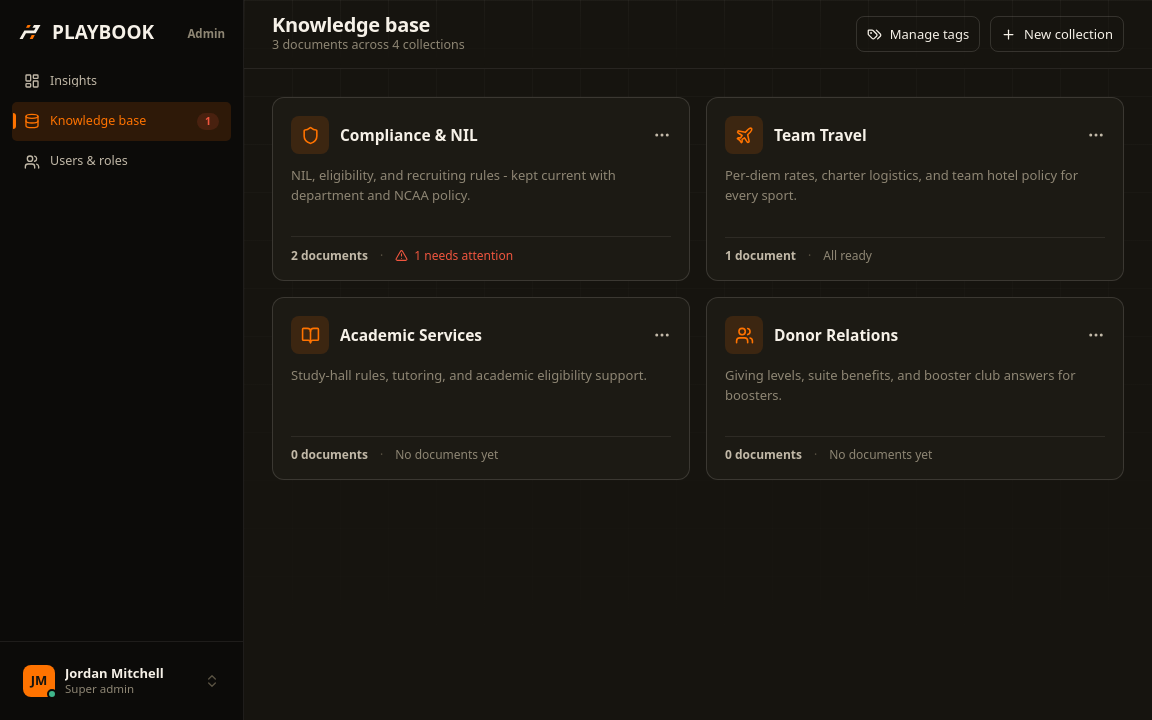
AdminShell › opens collection detail and routes document actions through KB mutations
The width and height of the screenshot is (1152, 720).
Click the button with aria-label "Compliance & NIL collection": (310, 135) [291,116,671,262]
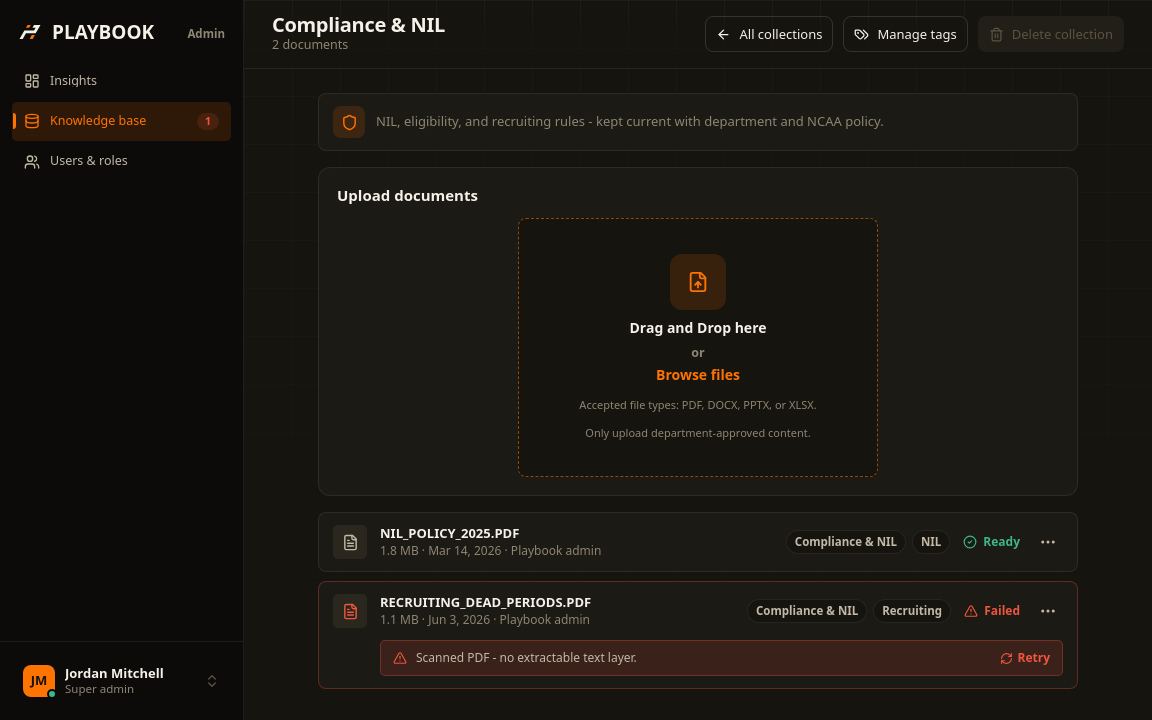
Now the heading "Compliance & NIL" is shown, box [272,15,445,35]
Now the text "2 documents" is shown, box [272,36,348,53]
Now the text "NIL_POLICY_2025.PDF" is shown, box [380,526,519,542]
Click the button with aria-label "Retry RECRUITING_DEAD_PERIODS.PDF": (1025, 658) [1000,652,1050,665]
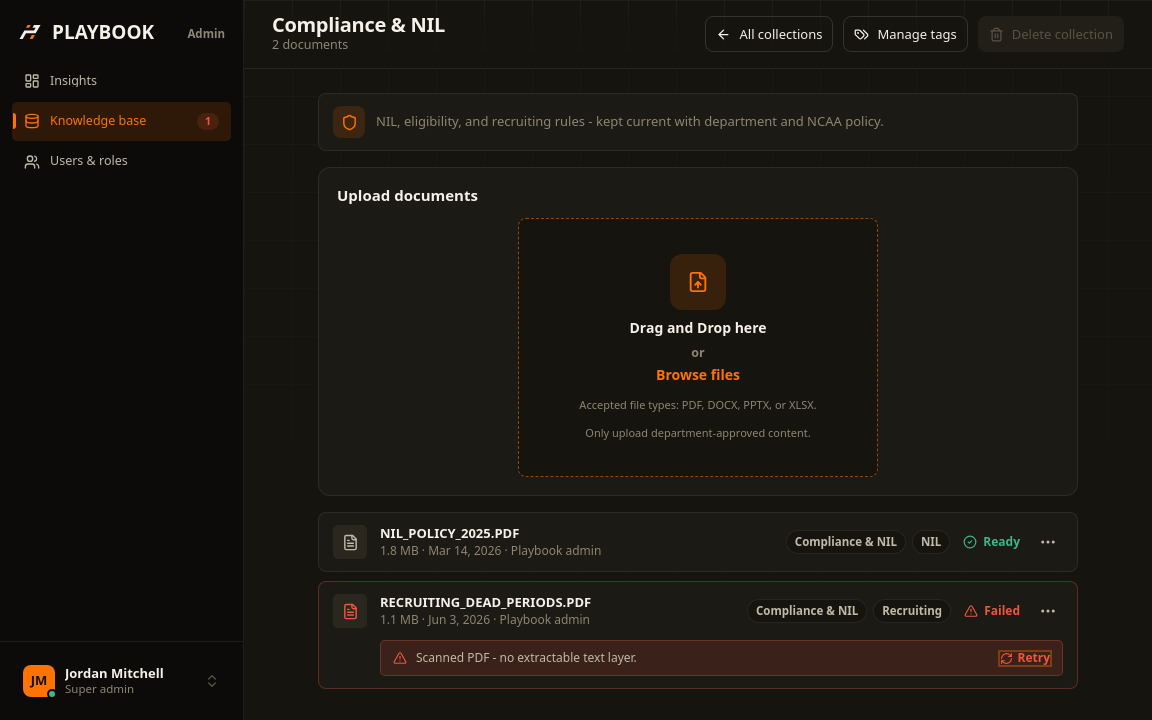
Click the button named "Actions for RECRUITING_DEAD_PERIODS.PDF": (1048, 611) [1033,596,1063,626]
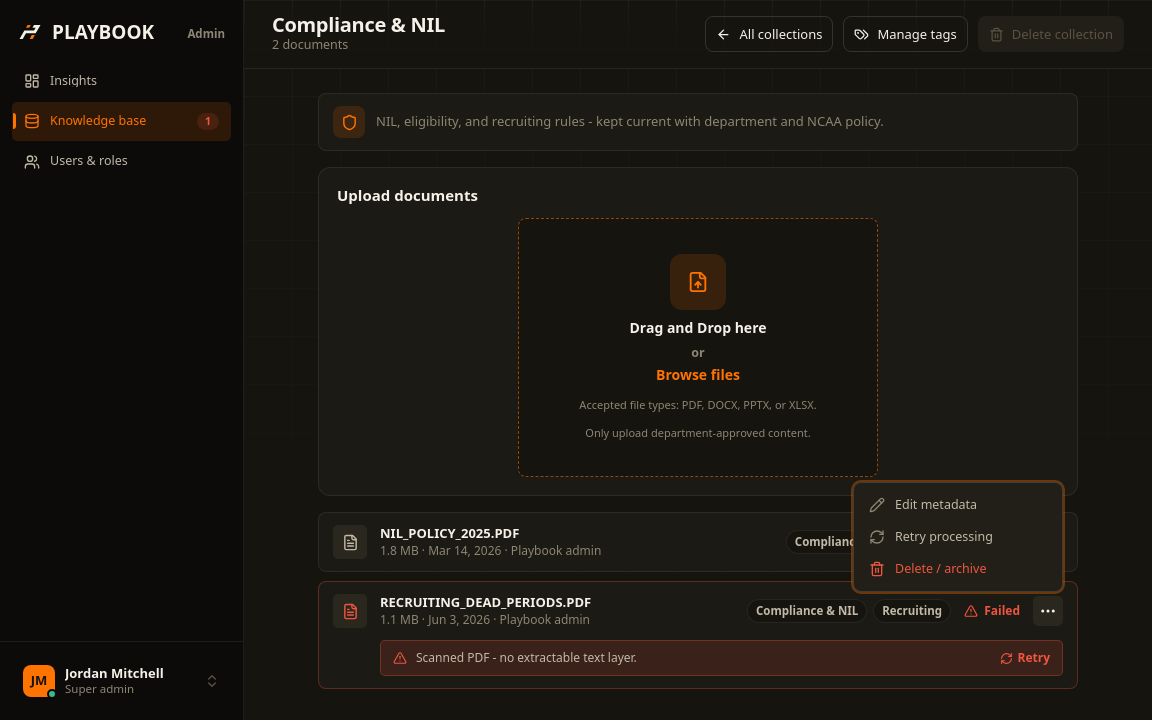
Click the menu item "Delete / archive": (928, 568) [869,560,986,577]
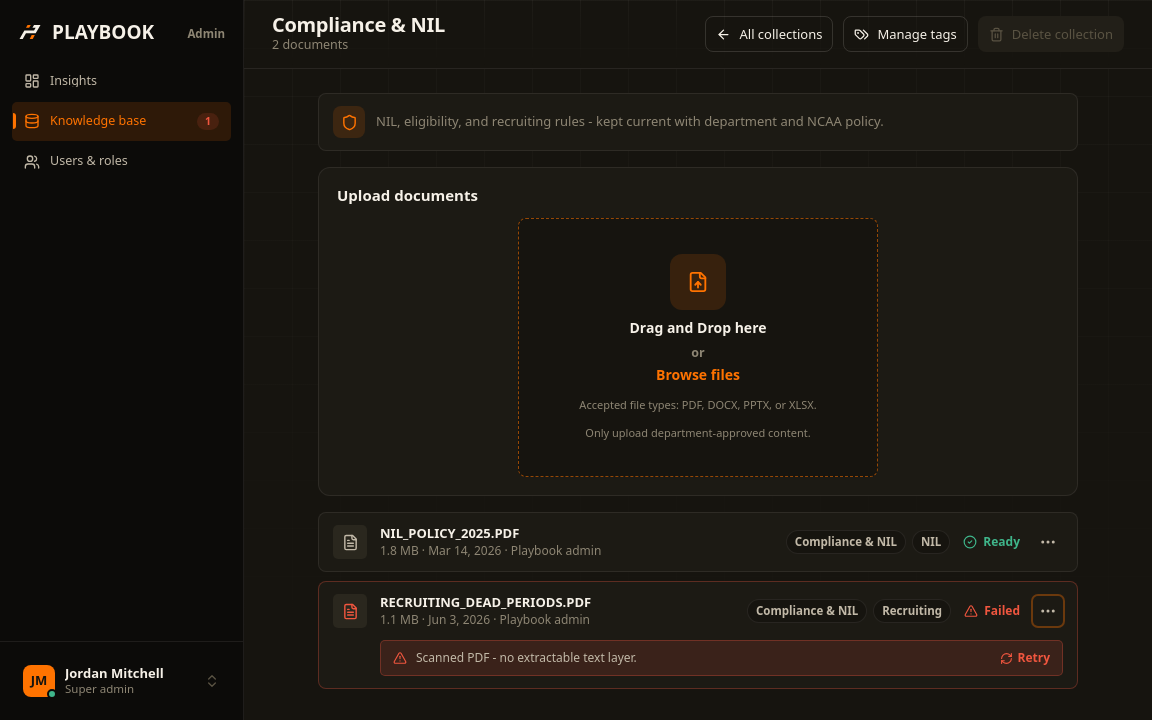
Click the button "All collections": (770, 34) [706,16,834,52]
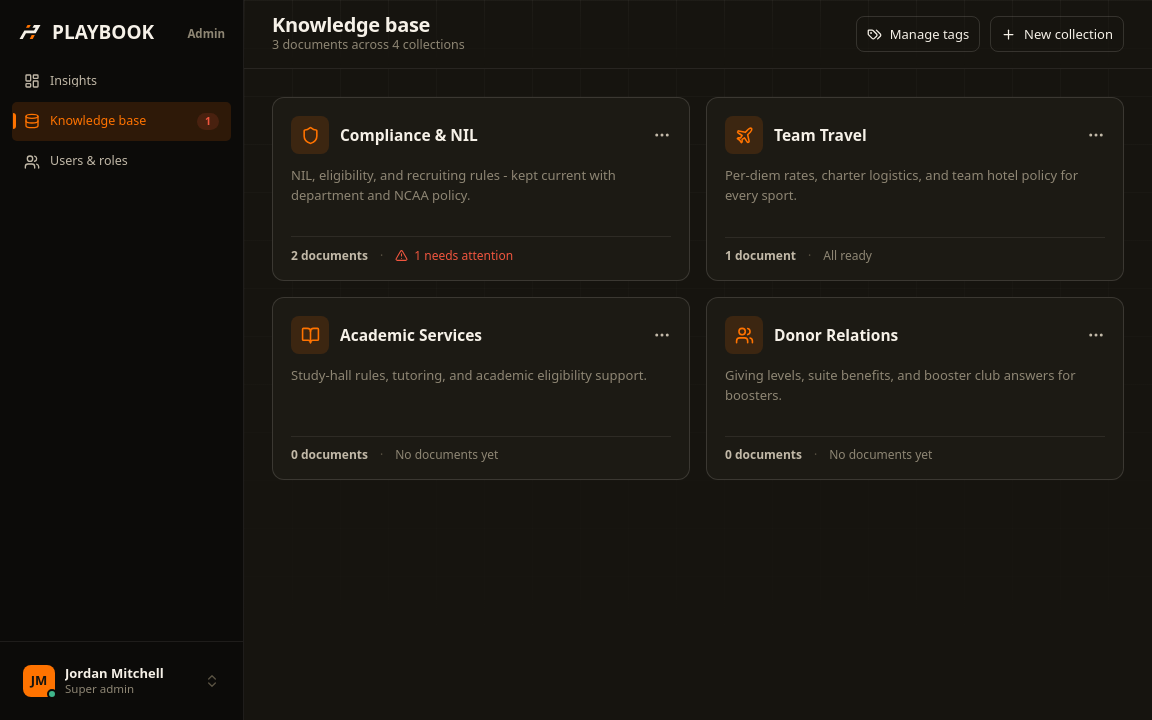
Now the heading "Knowledge base" is shown, box [272,11,430,38]
